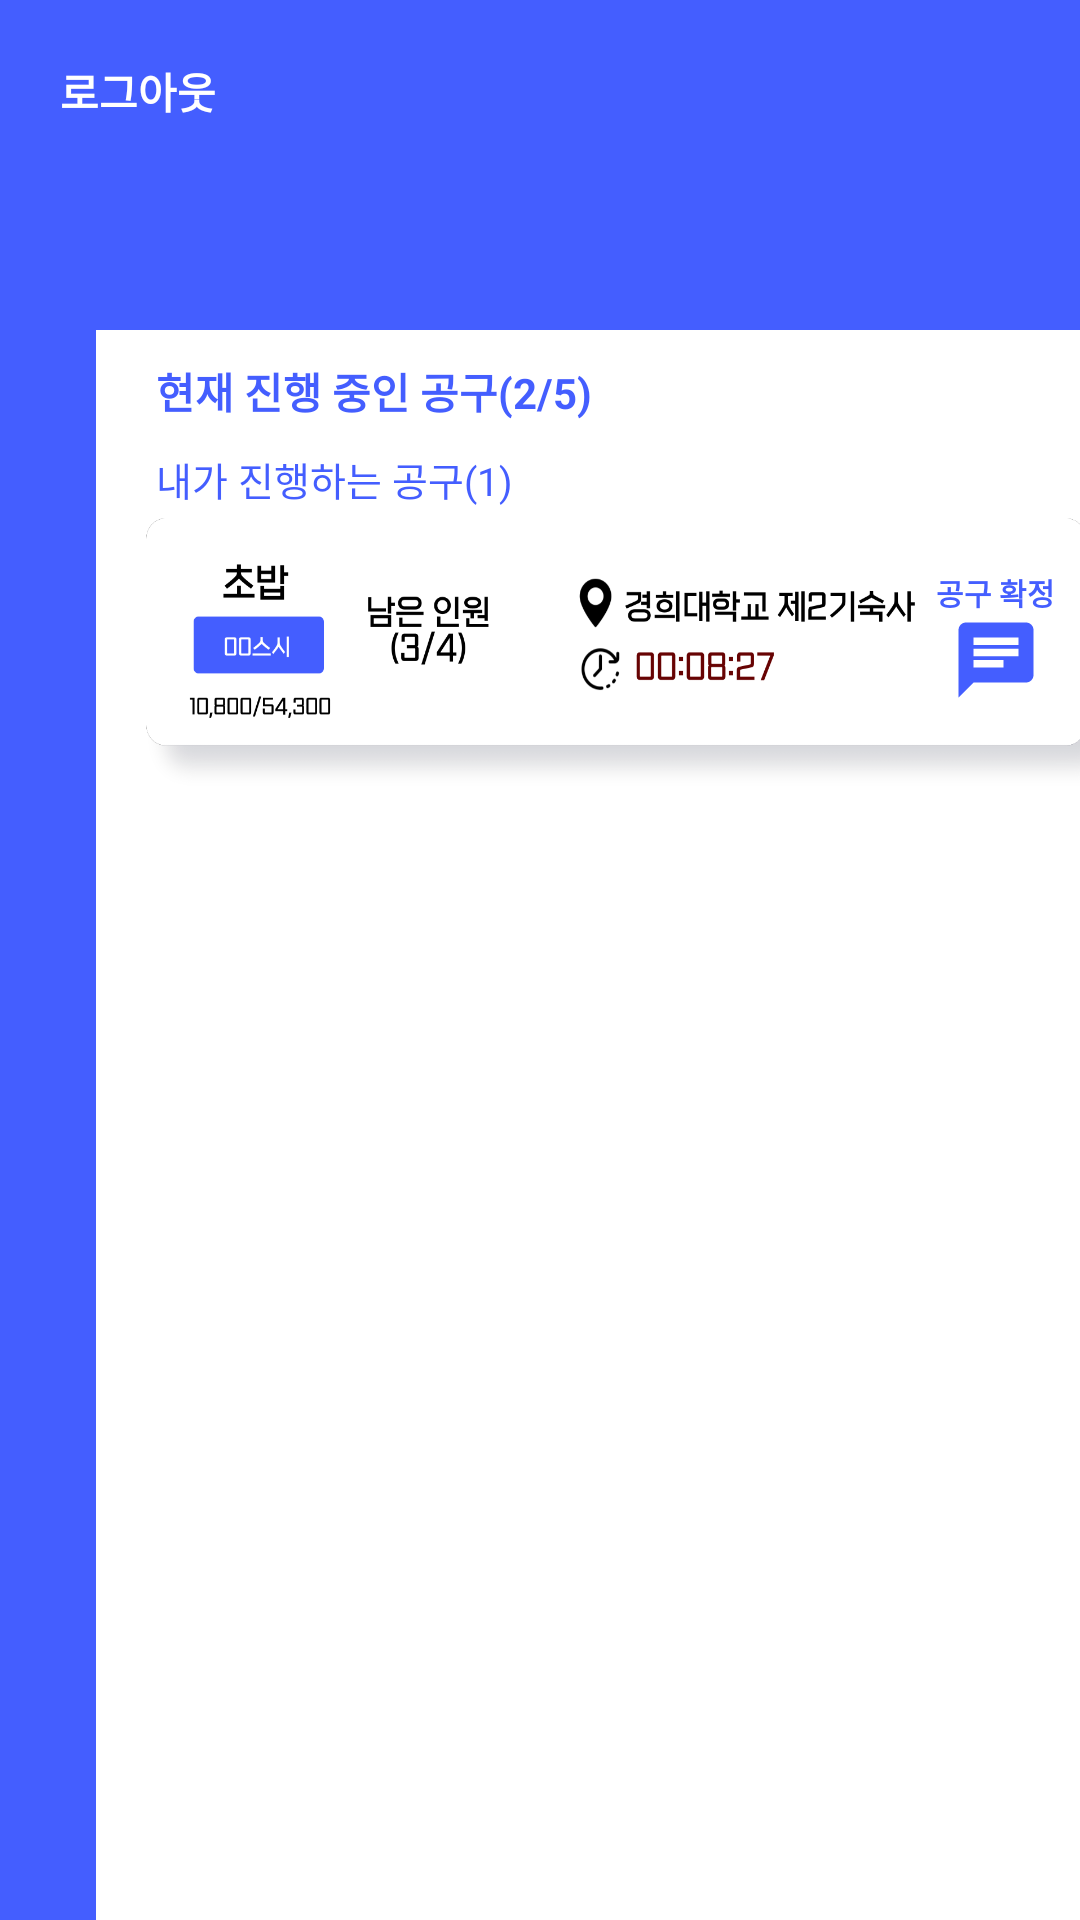

Screen size 1080px x 1920px. Icon name, then its box in pixels as {"x1": x1, "y1": y1, "x2": x2, "y2": y2}:
chat: {"x1": 958, "y1": 622, "x2": 1034, "y2": 698}
